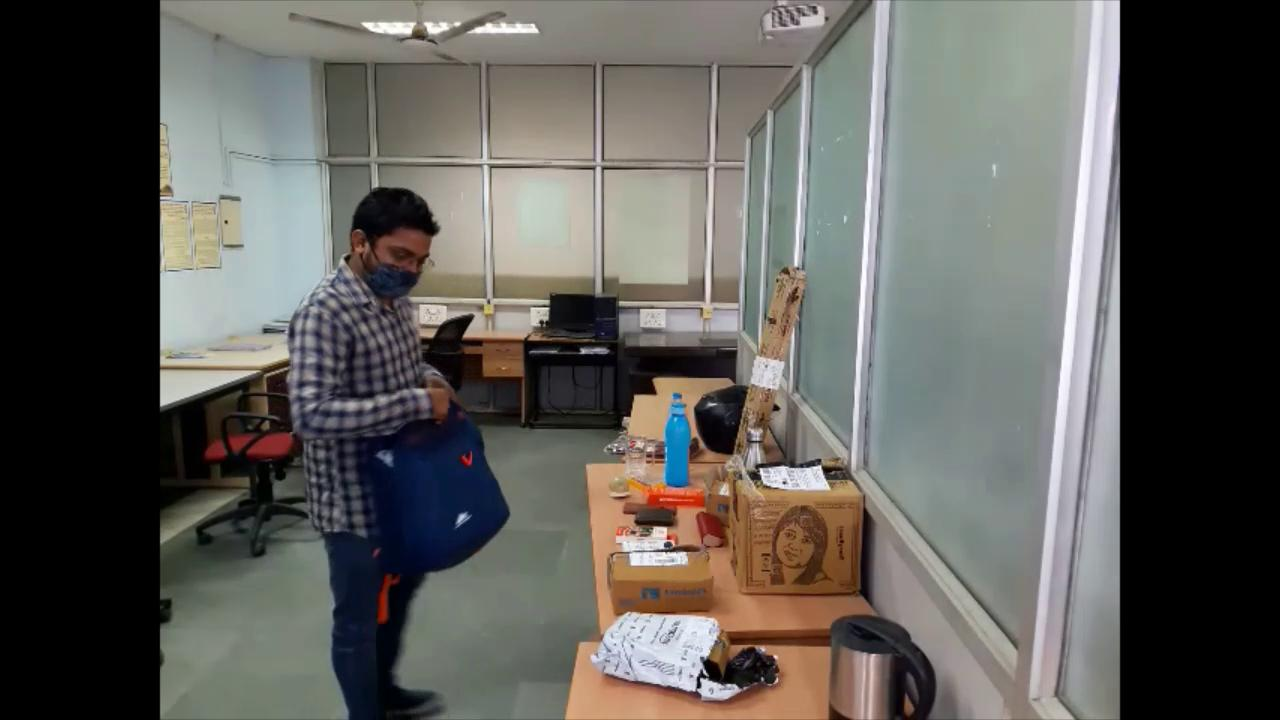shoplifting: (271, 187, 516, 720)
